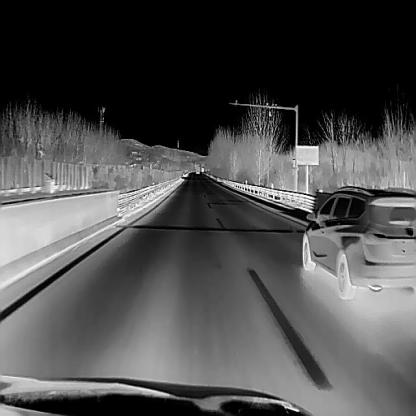car: (302, 184, 416, 299)
truck: (194, 165, 199, 173)
